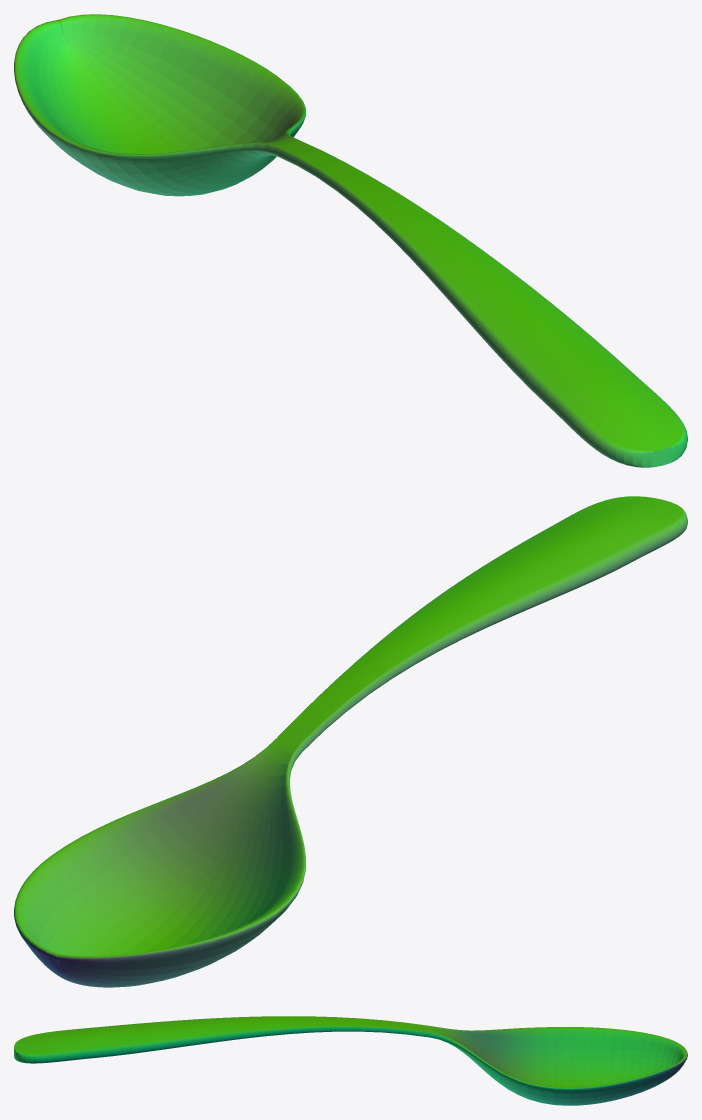
The model's file is Spoon.fbx.
3 views of the same model, one above another, from view 1: azimuth 30°, elevation 25°; view 2: azimuth 150°, elevation 25°; view 3: azimuth 270°, elevation 25° (orthographic). The views are drawn at different scales.
Visible parts, largest first — view 1: Spoon; view 2: Spoon; view 3: Spoon.
Part boxes in pixels (<box>): Spoon: <box>14,14,687,467</box>; Spoon: <box>14,496,687,987</box>; Spoon: <box>14,1016,687,1105</box>.
Size of the model in its own units: 26.4 by 15.5 by 121.
